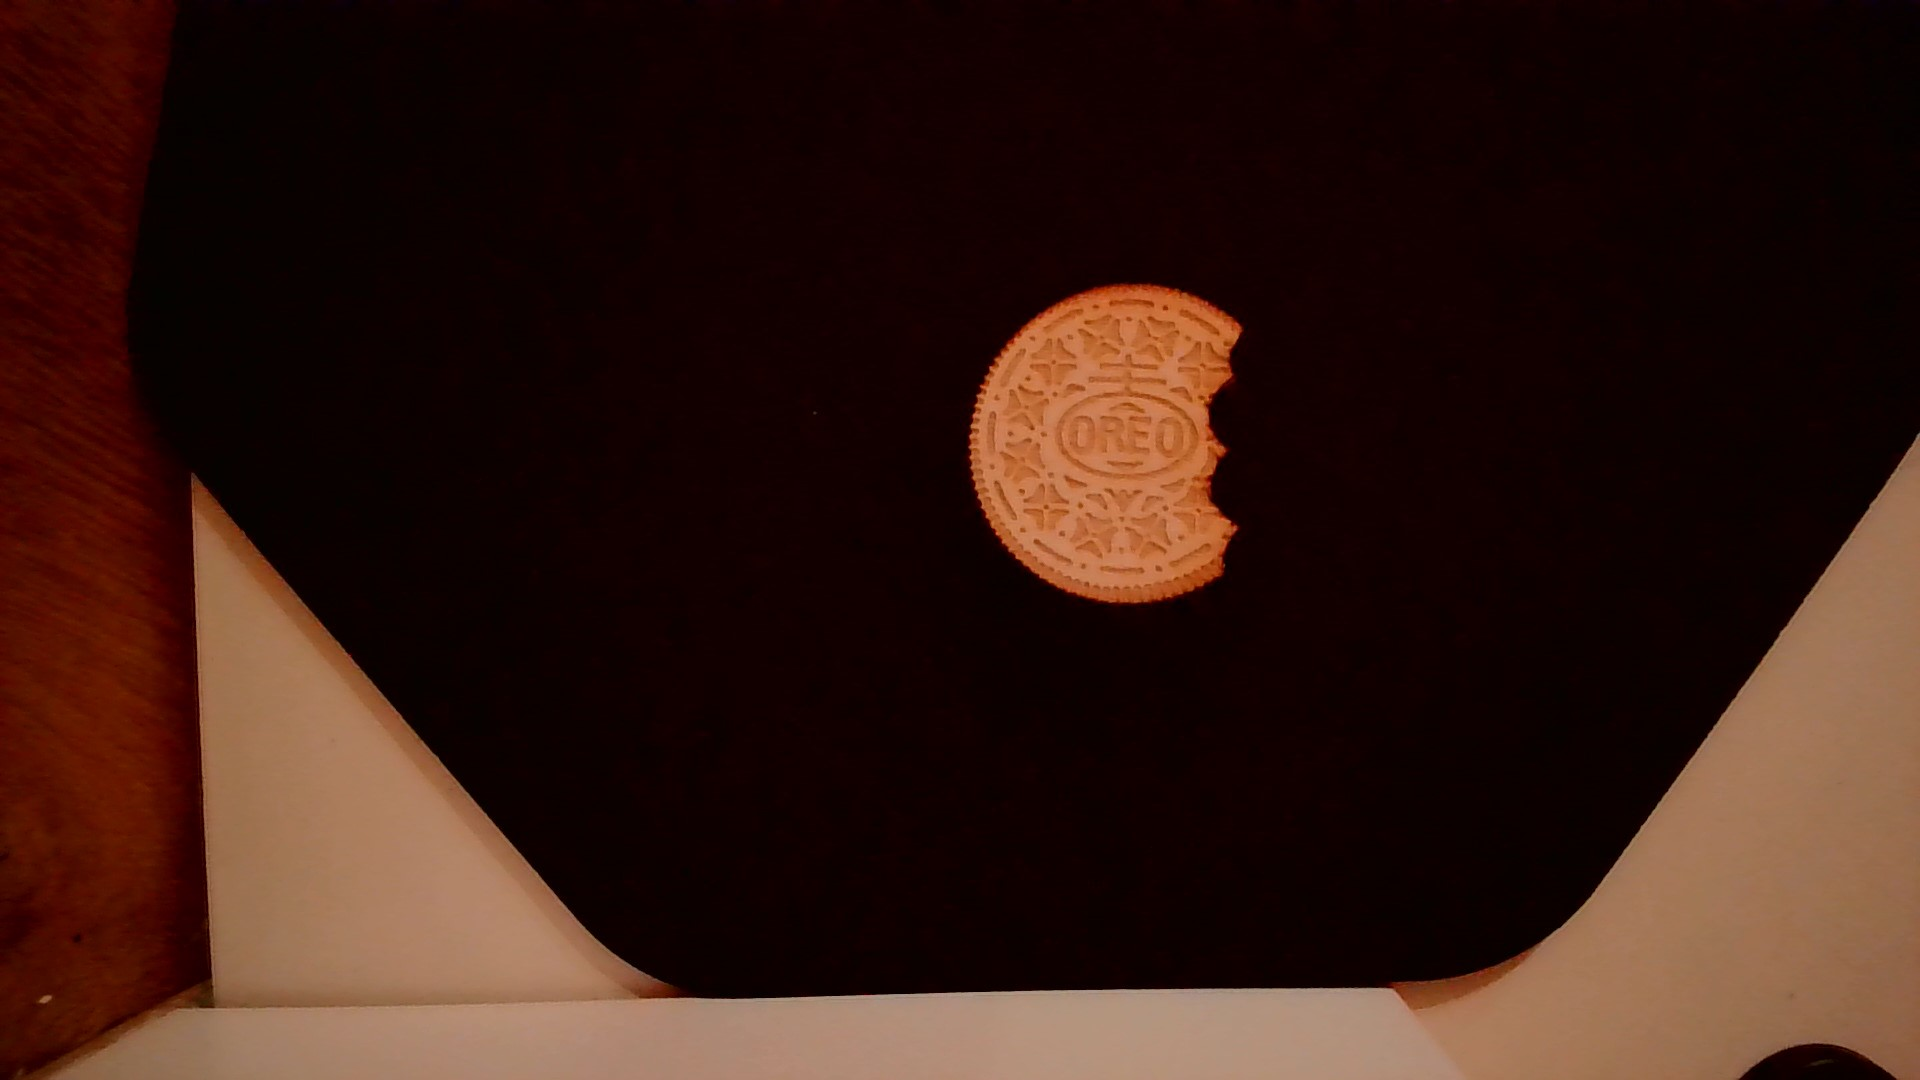Mangé: (1199, 305, 1245, 583)
Oréo: (957, 278, 1245, 615)
